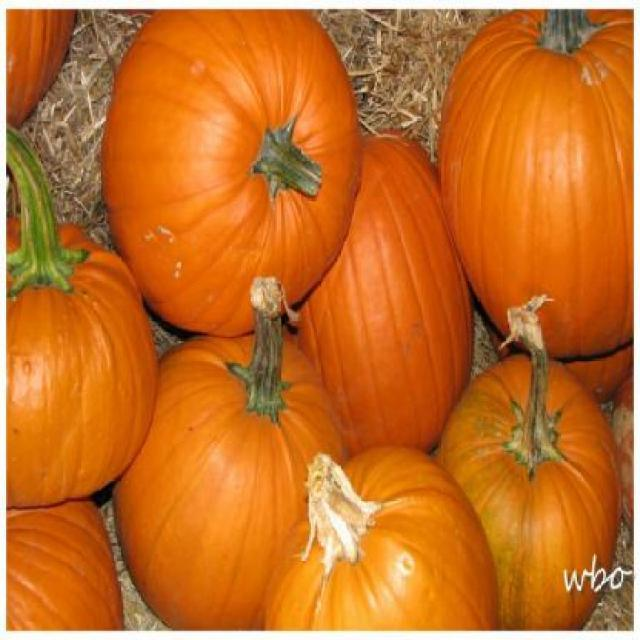Pumpkin: (94, 6, 360, 334), (114, 275, 346, 628), (433, 0, 638, 358), (430, 295, 626, 637), (4, 120, 162, 512), (294, 121, 474, 448), (266, 448, 500, 632), (4, 496, 126, 632), (487, 324, 633, 413), (0, 3, 82, 126), (612, 354, 634, 536)
